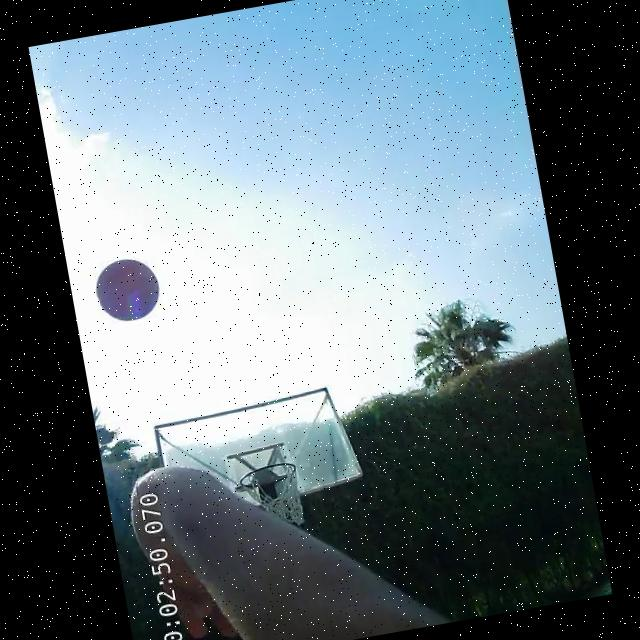ball: (90, 252, 164, 325)
